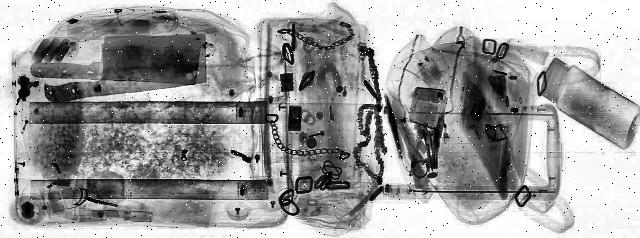Knife: (1, 27, 250, 102), (27, 31, 212, 85)
